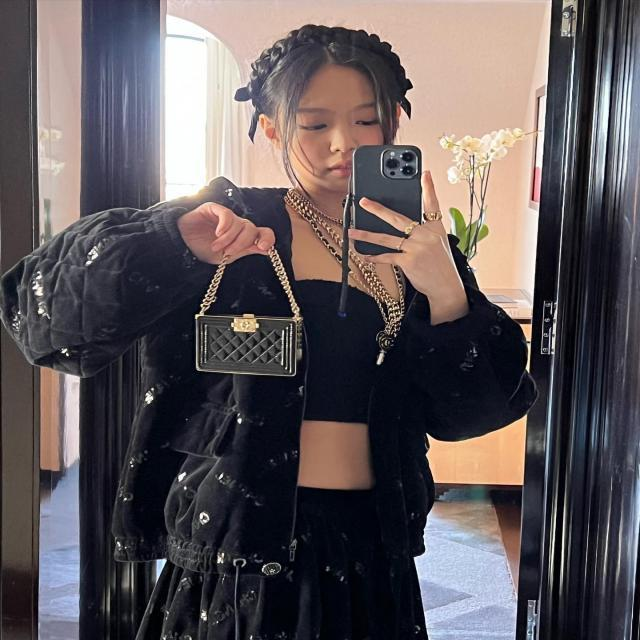phone: (352, 144, 422, 256)
